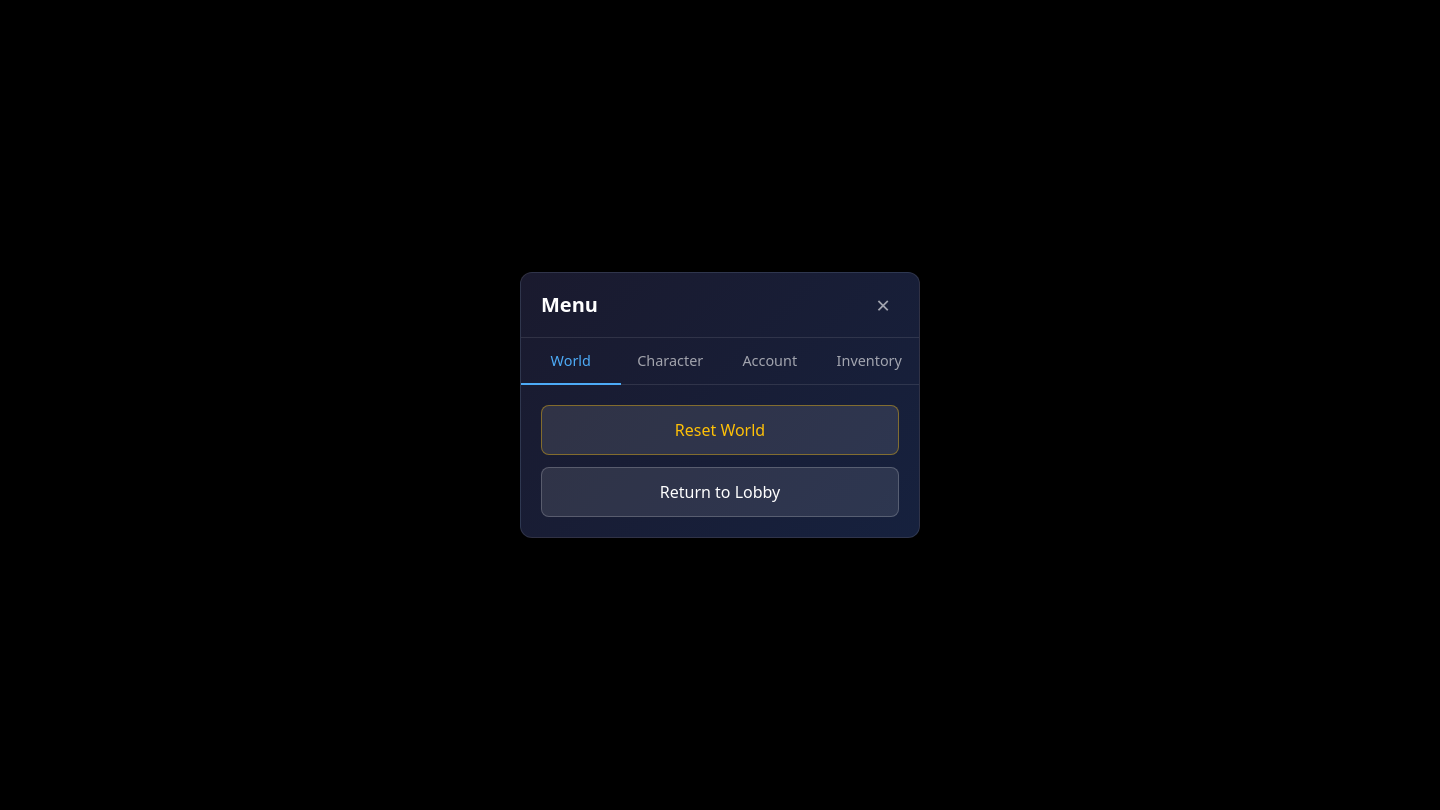
Scenario: GameMenuModal › shows tabs and switches content
Check: the button "Reset World" is shown, box [541,405,899,455]
// Switch to Character
Click the button "Character" at (670, 361), box [620,338,720,384]
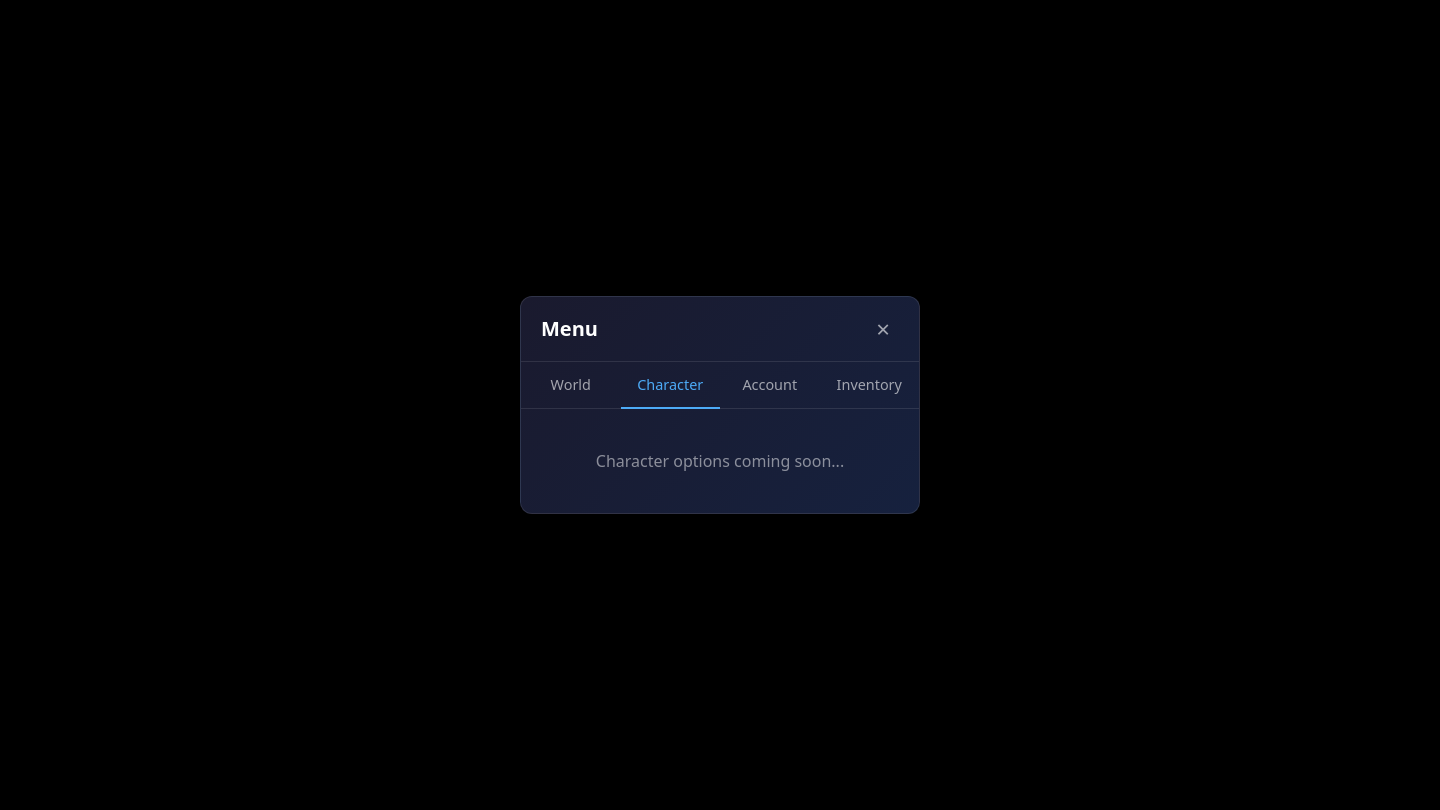
Check: the text "Character options coming soon..." is shown, box [596,450,844,472]
// Switch to Inventory
Click the button "Inventory" at (869, 385), box [820,362,919,408]
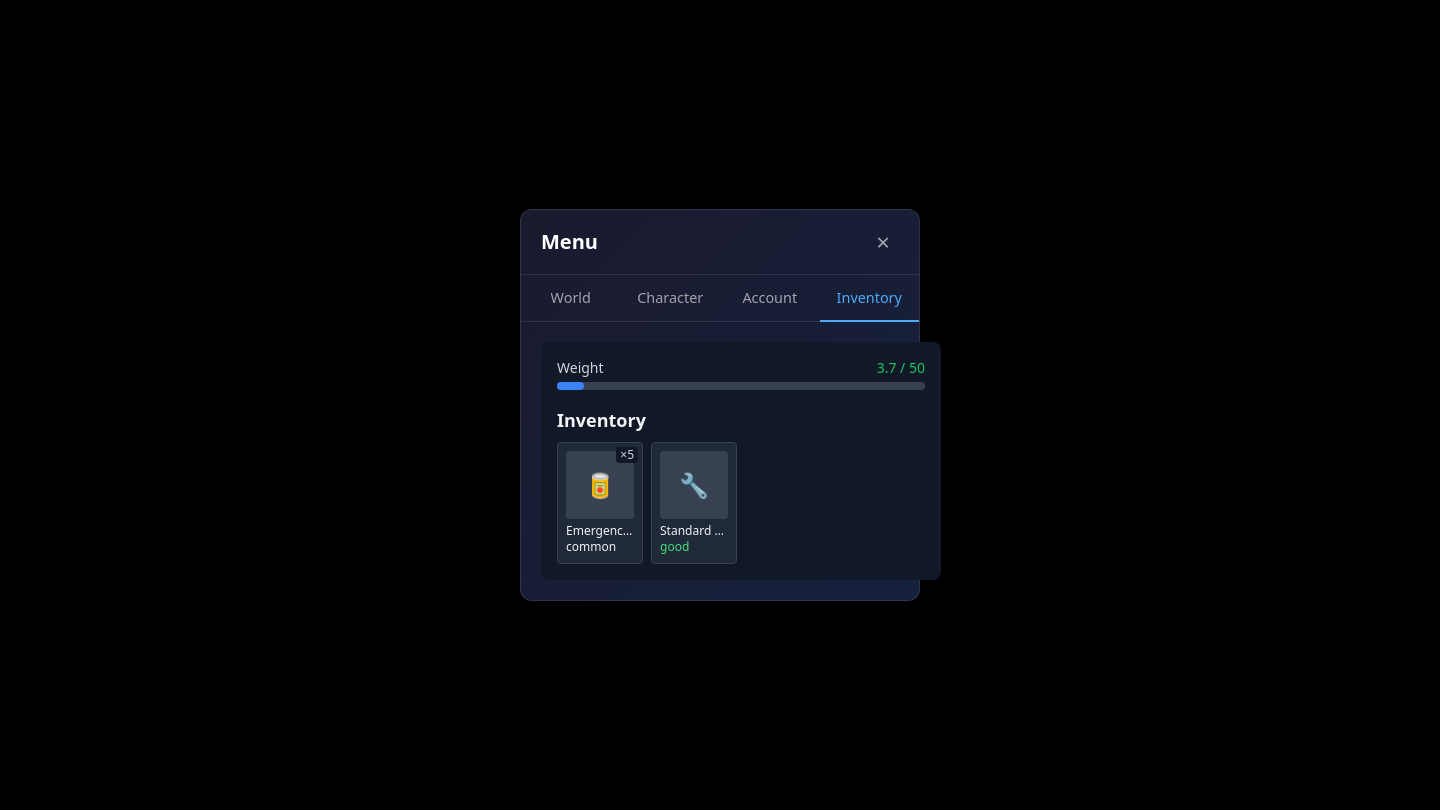
Check: the text "Emergency Rations" is shown, box [566,523,634,539]
Check: the text "3.7 / 50" is shown, box [877,358,925,378]
// Switch to Account
Click the button "Account" at (770, 298), box [720,275,820,321]
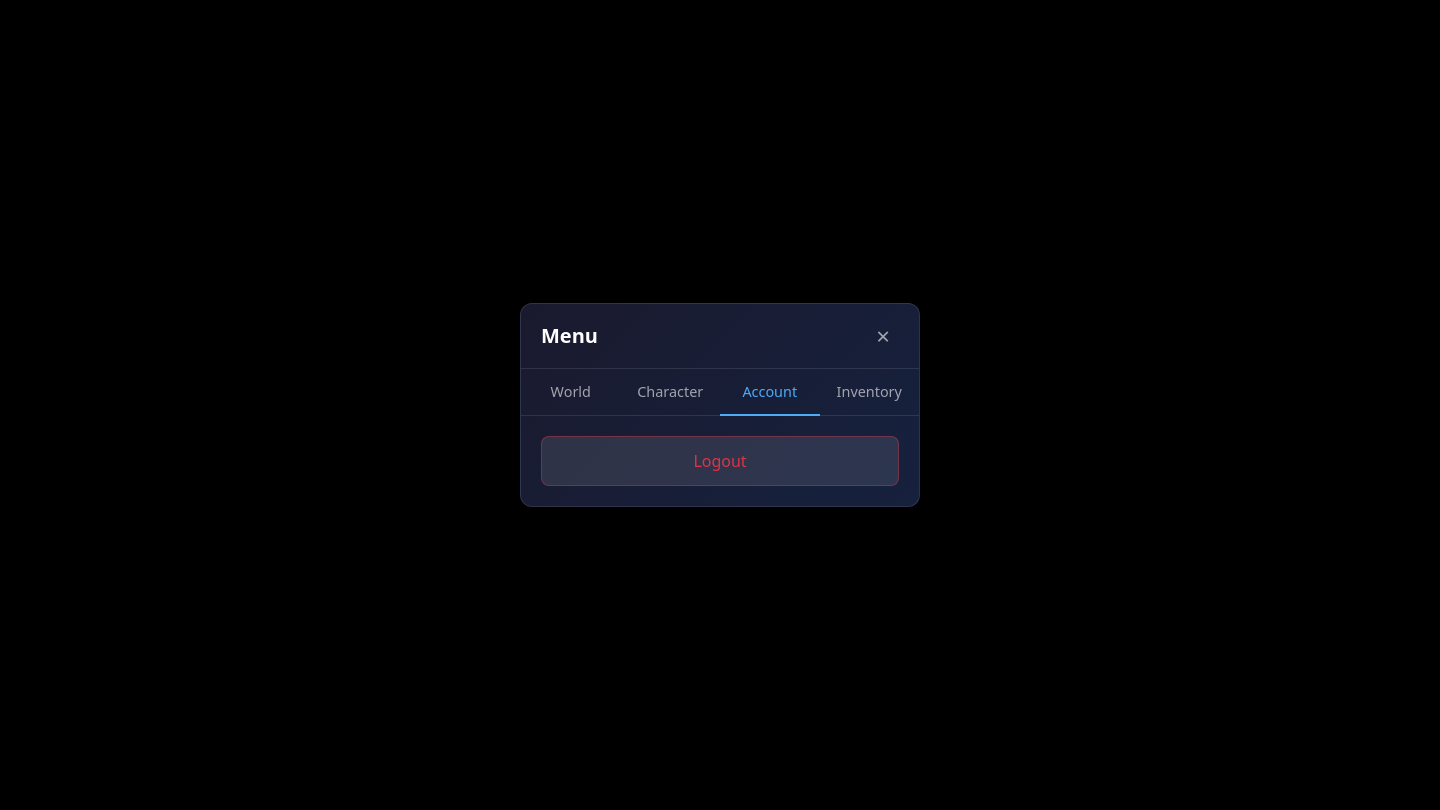
Check: the button "Logout" is shown, box [541,436,899,486]
